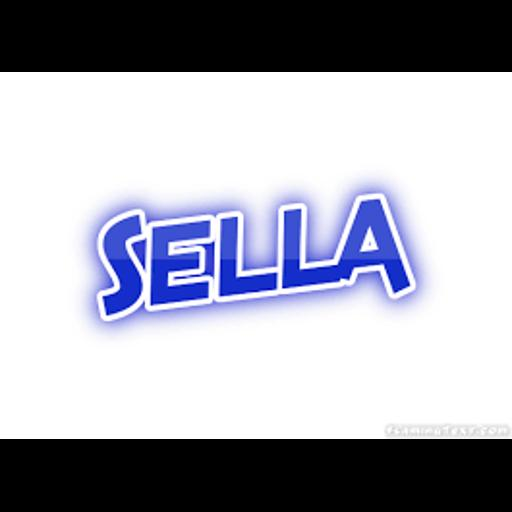Banca Sella: (0, 72, 512, 439)
